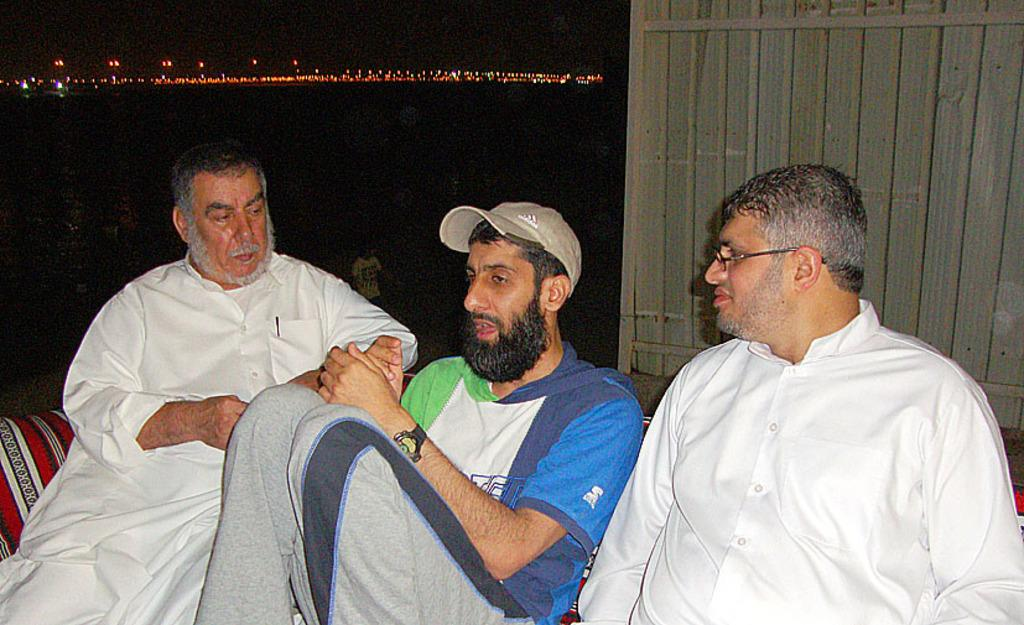Hat: (438, 199, 582, 296)
